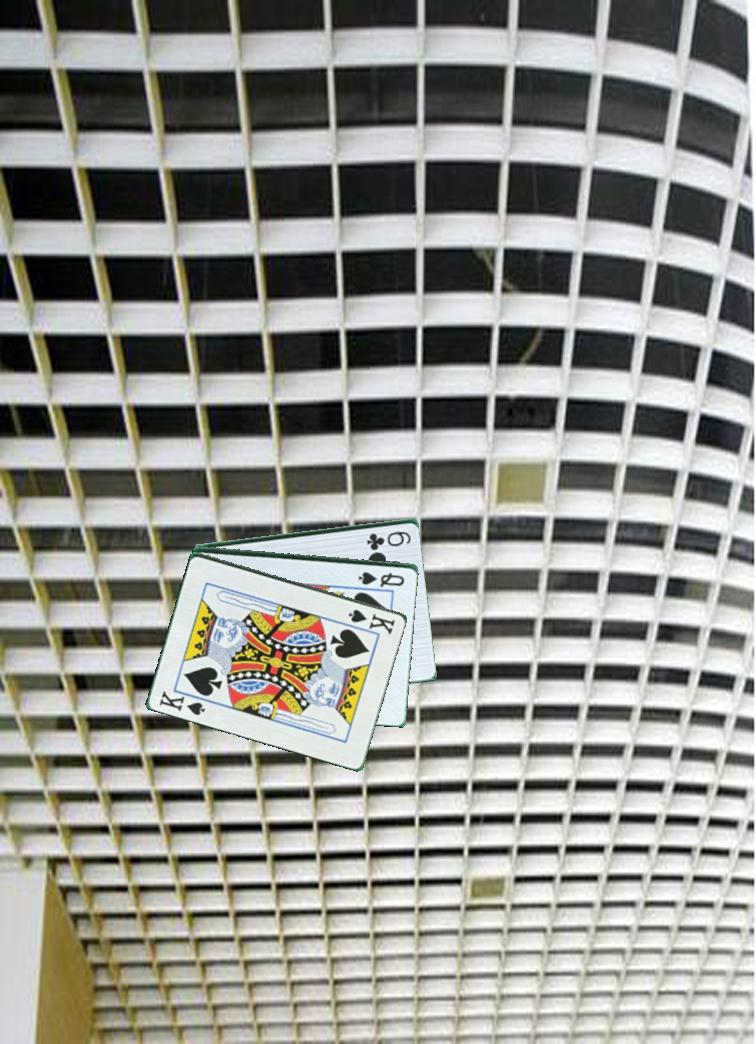6c: (364, 527, 414, 549)
ks: (153, 685, 208, 718), (345, 605, 398, 637)
qs: (355, 568, 408, 588)
